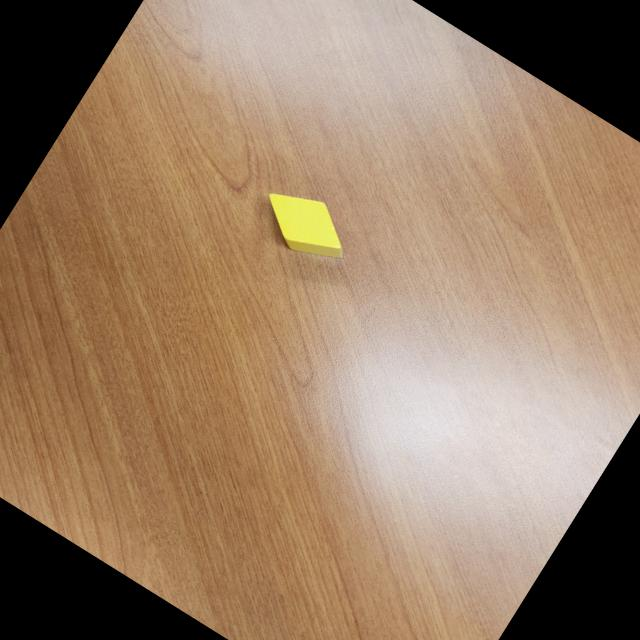yellow: (249, 176, 364, 276)
